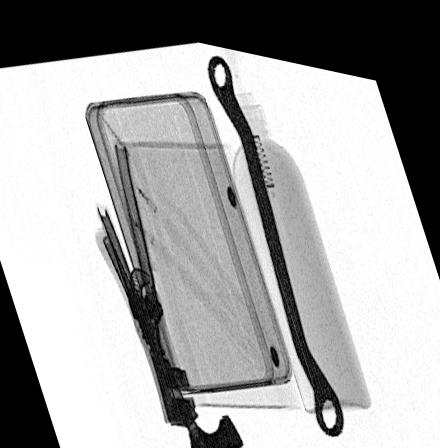Hammer: (92, 225, 246, 448)
Pliers: (90, 113, 200, 425)
Wrench: (205, 41, 345, 421)
